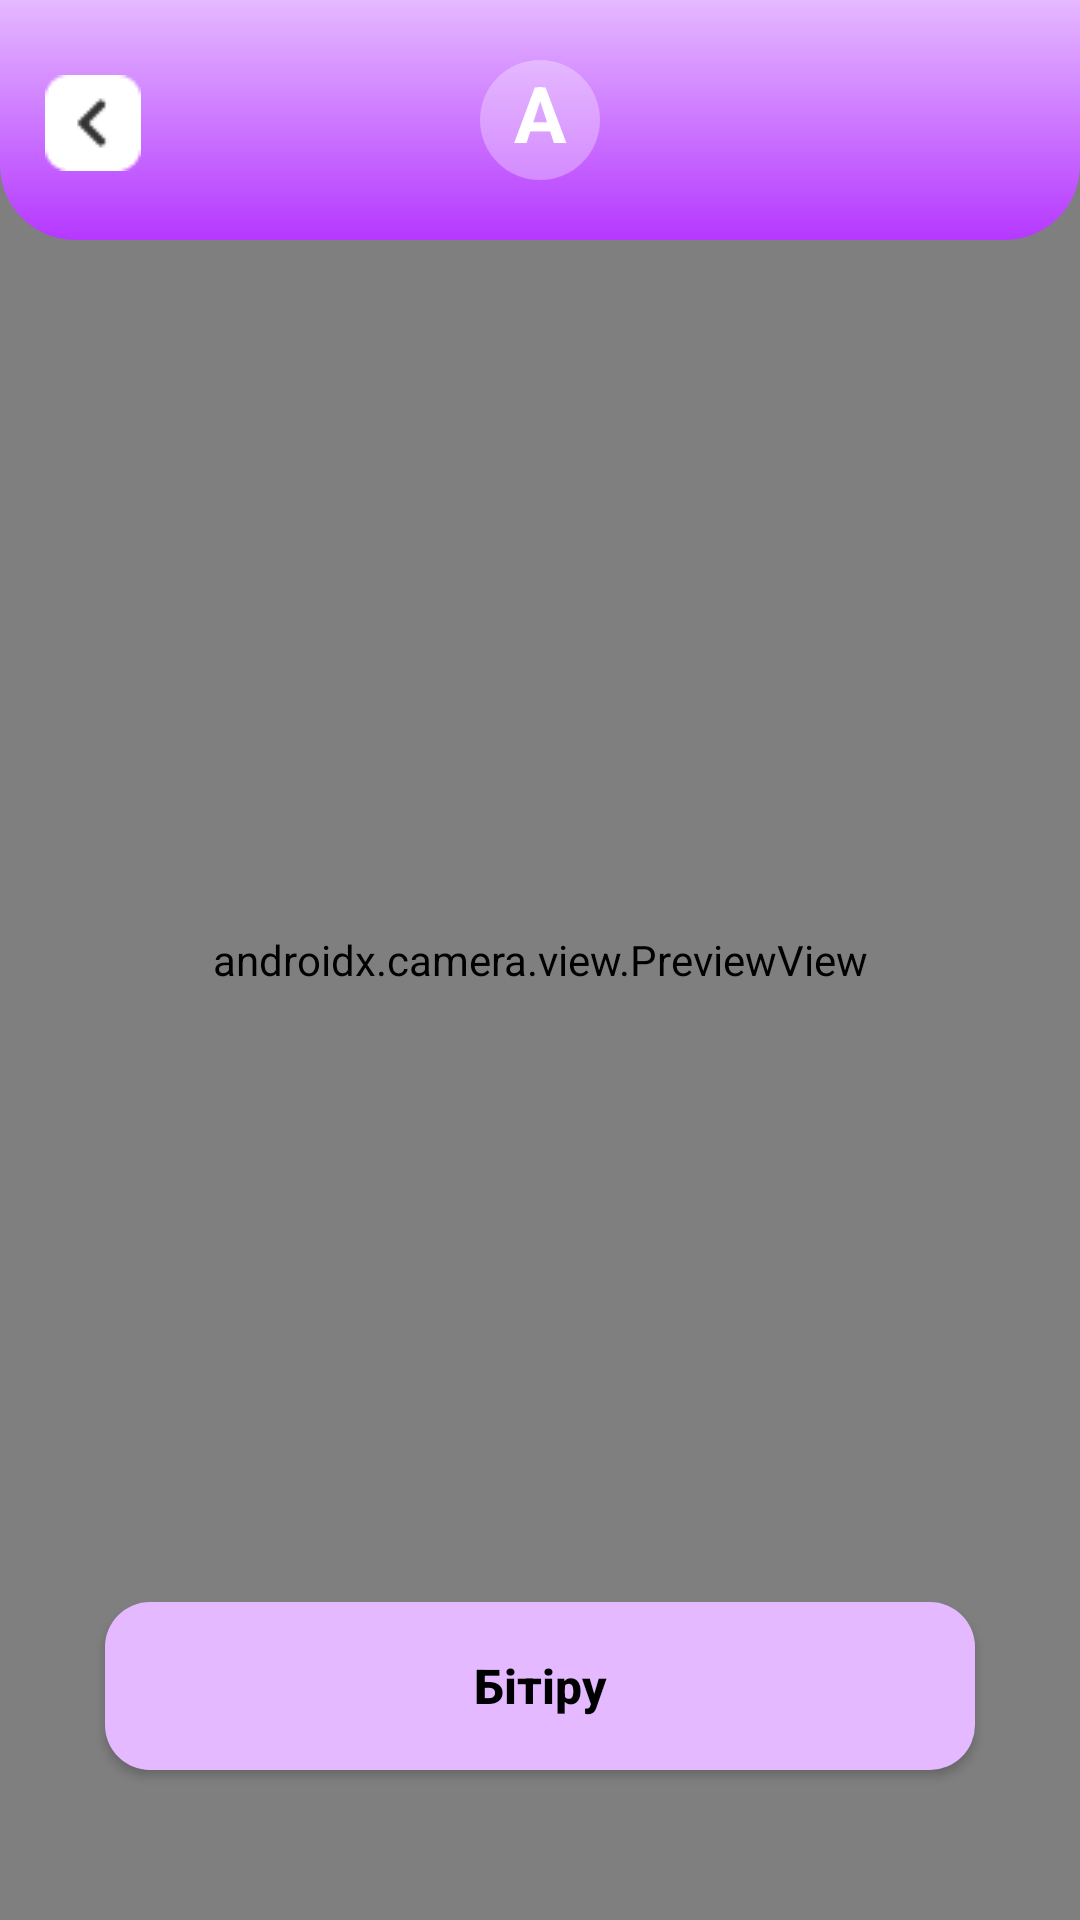

Icons on this 1080 x 1920 Android screen, each with the point to tap as (x=x, y=y):
back: (x=93, y=123)
